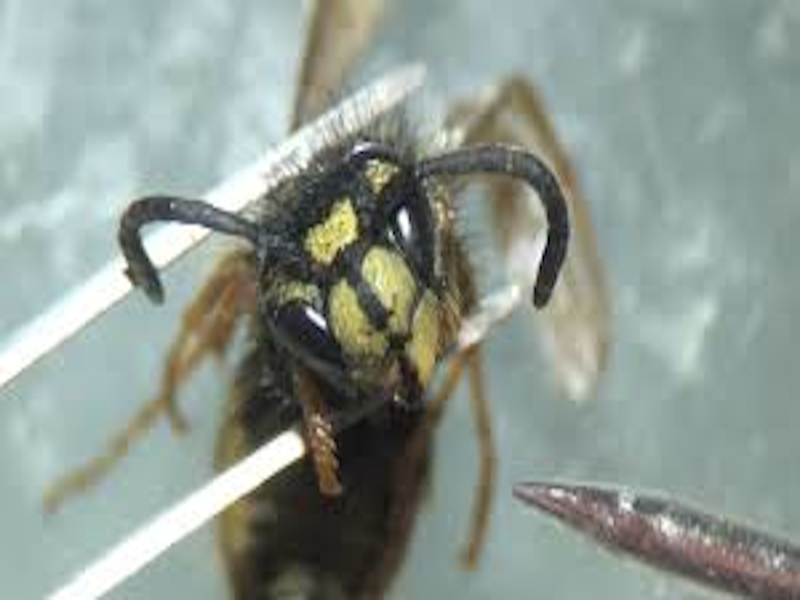chax: (113, 128, 592, 461)
